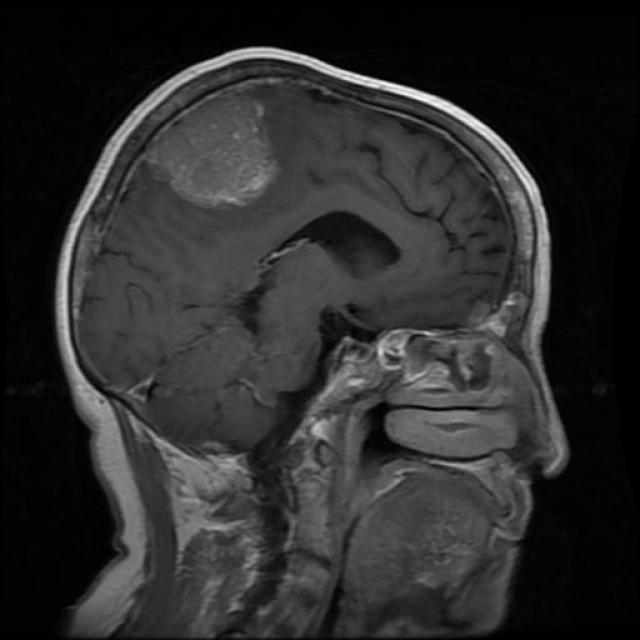meningioma: (146, 95, 281, 214)
